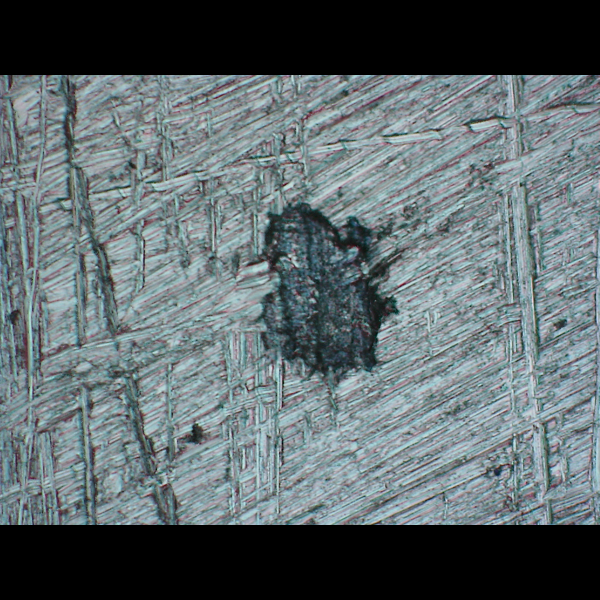d: (250, 192, 403, 401)
